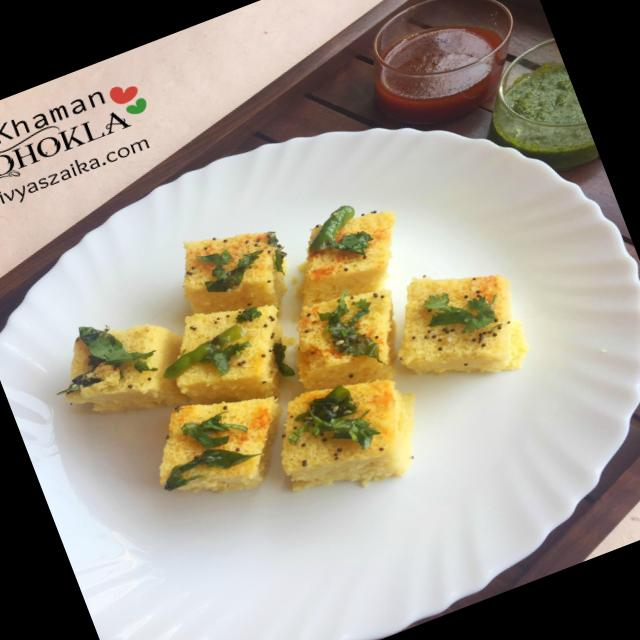dhokla: (49, 140, 546, 555)
